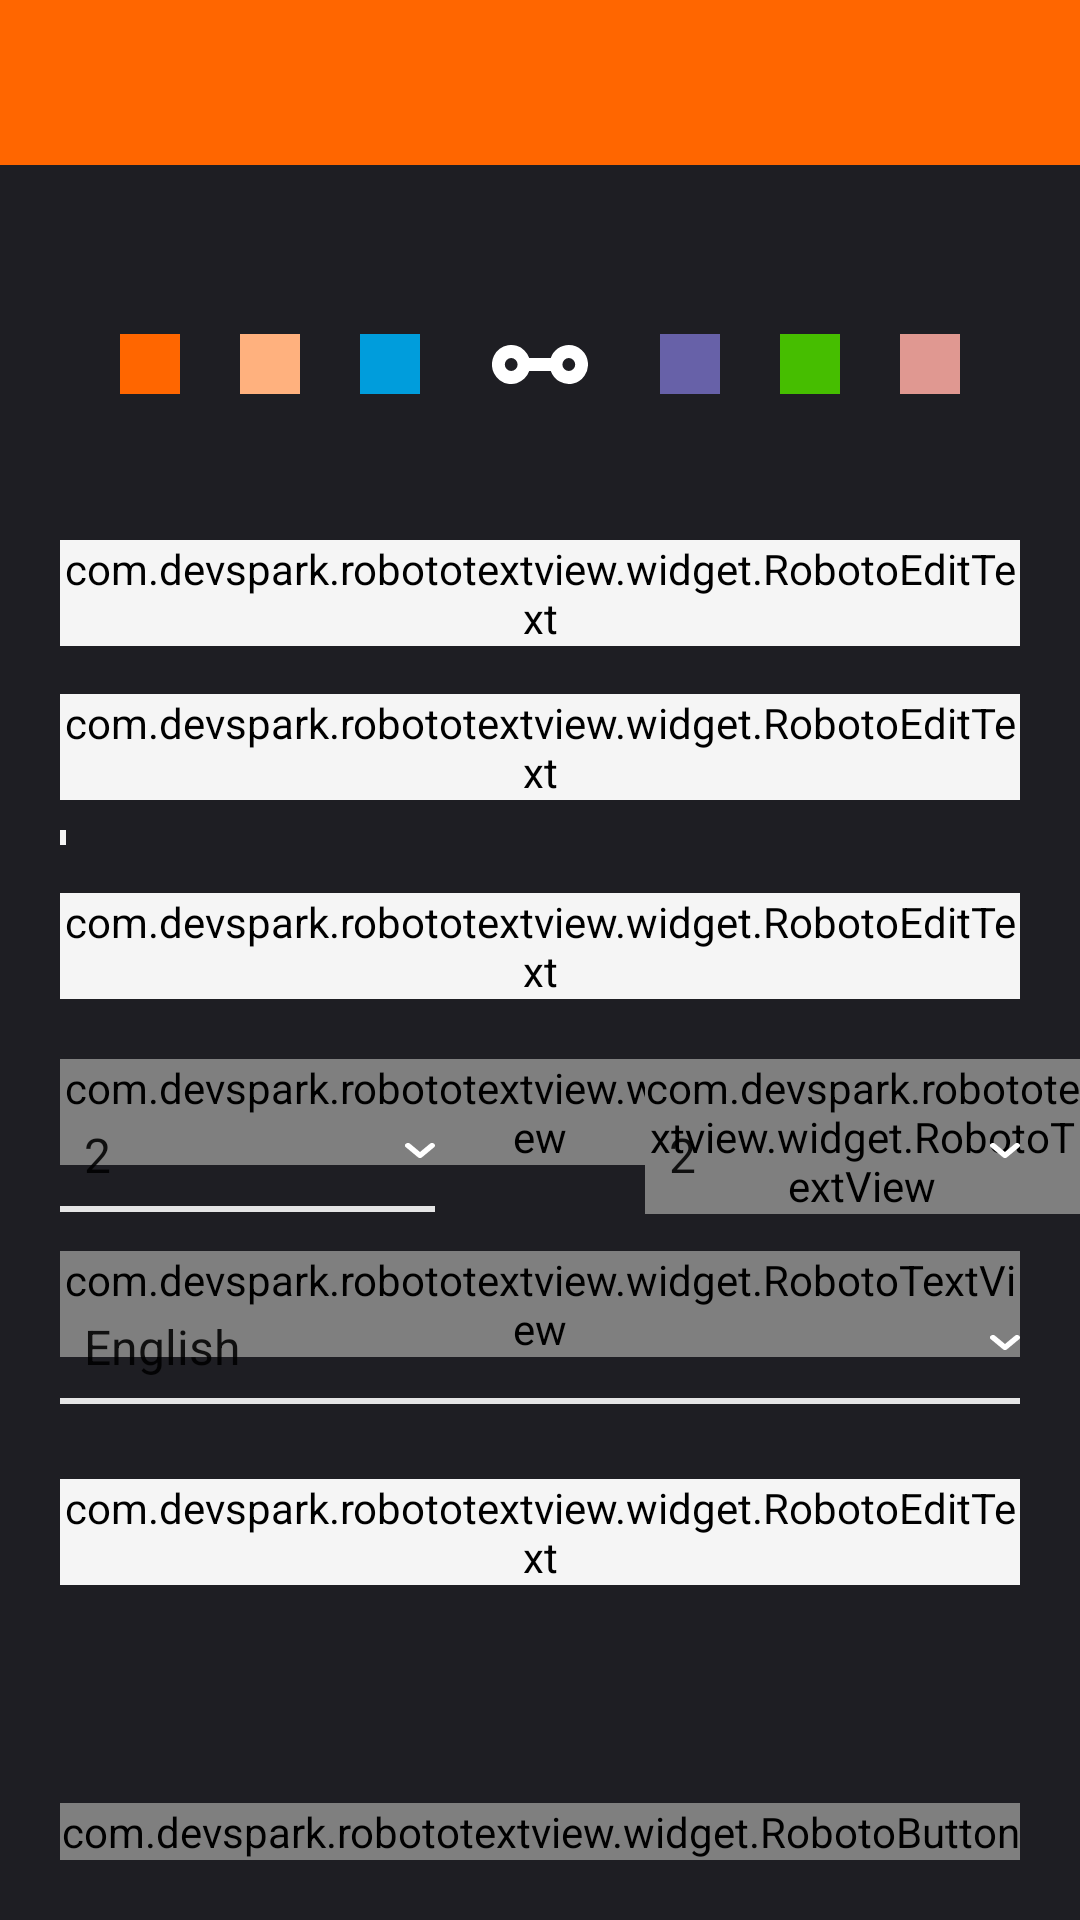

Icon bounding boxes for this 1080x1920 phone screenshot, format (left=x1, top=y1, right=x2, bottom=y2):
multisig wallet: (left=492, top=345, right=588, bottom=384)
